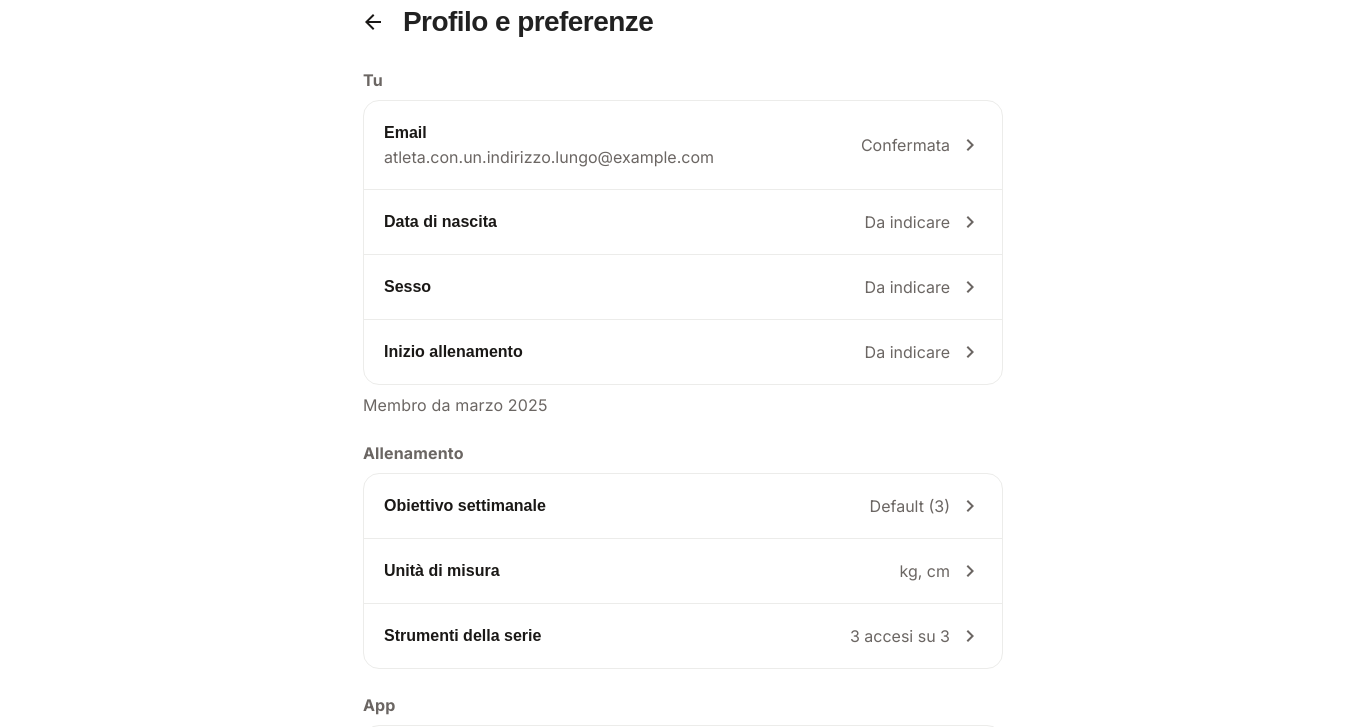
campi data su telefono › il campo di «Data di nascita» ha un nome che contiene l'etichetta
The image size is (1366, 727).
Expected: the text "Membro da marzo 2025" is shown, [363,395,548,415]
Click the button "Data di nascita Da indicare".
click(440, 222)  # box [364,190,1002,254]
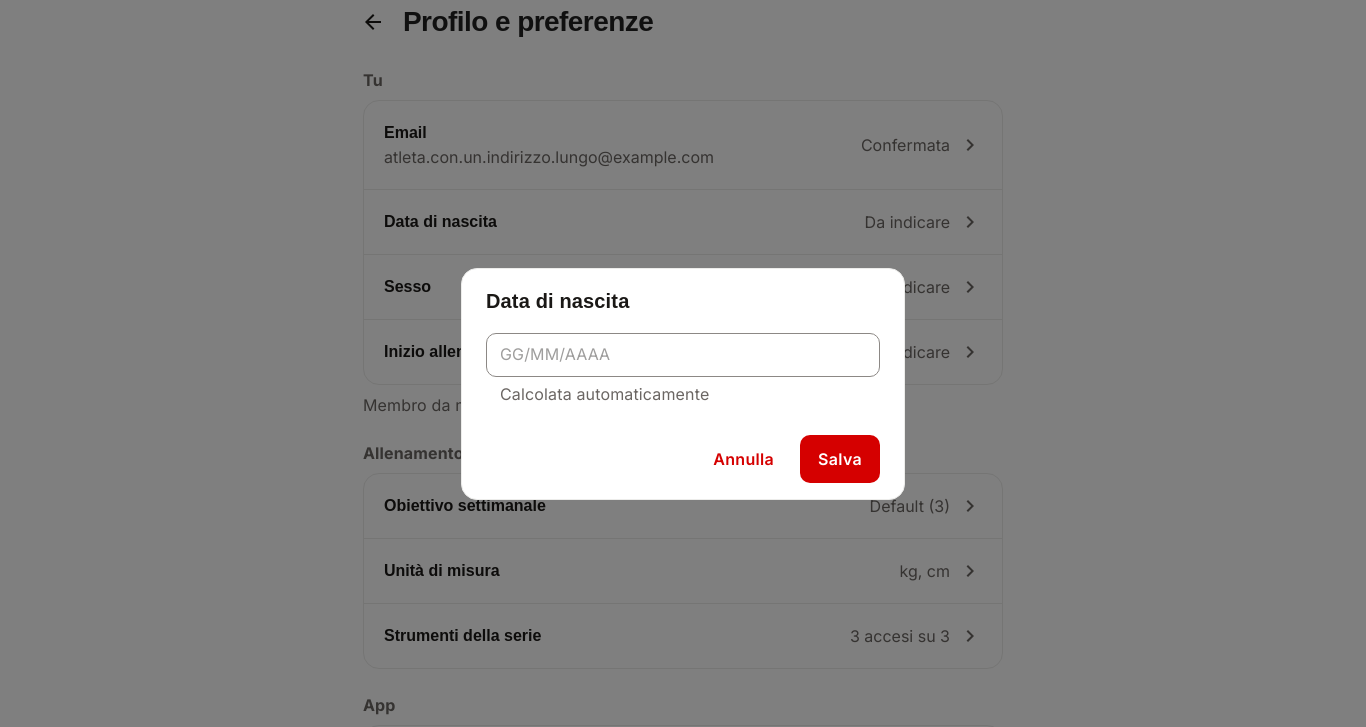
Expected: the field named "Data di nascita" is shown, [486,333,866,377]
